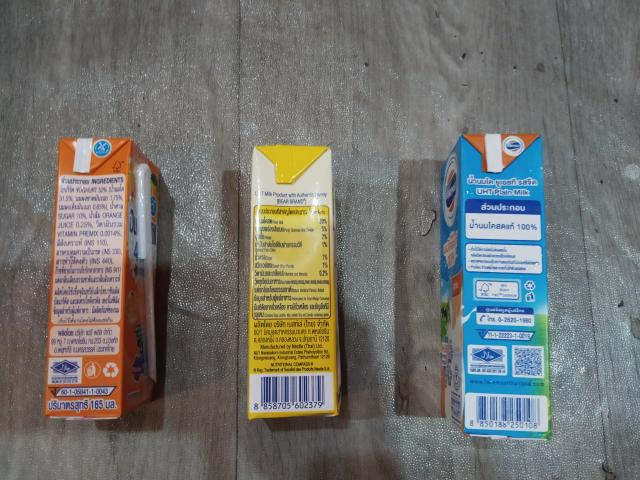drink_box: (435, 134, 563, 444), (48, 132, 167, 430), (239, 140, 354, 422)
